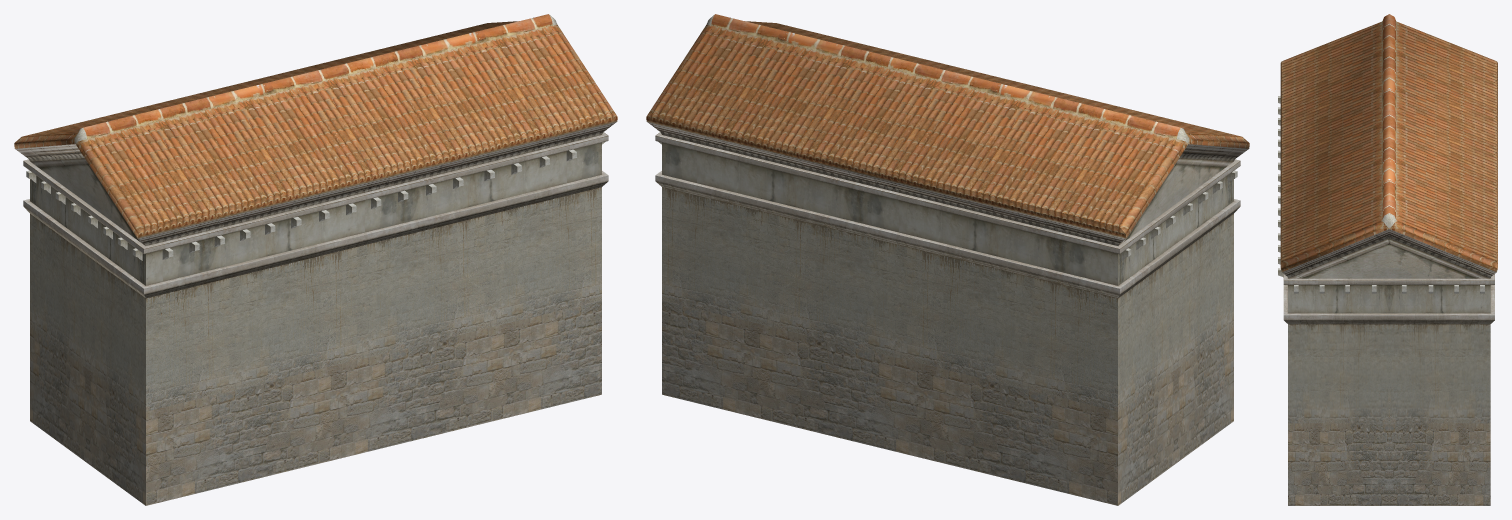
Rendered from bg_atm_aborder_abbeymain01_sm_jjy.FBX.
The picture shows the model from 3 angles, left to right: view 1: azimuth 30°, elevation 25°; view 2: azimuth 150°, elevation 25°; view 3: azimuth 270°, elevation 25°; orthographic projection. The views are drawn at different scales.
Visible parts, largest first — view 1: bg_atm_aborder_abbeymain01_sm_jjy; view 2: bg_atm_aborder_abbeymain01_sm_jjy; view 3: bg_atm_aborder_abbeymain01_sm_jjy.
Part boxes in pixels (bbox=[...]): bg_atm_aborder_abbeymain01_sm_jjy: bbox=[14, 14, 617, 505]; bg_atm_aborder_abbeymain01_sm_jjy: bbox=[646, 14, 1249, 505]; bg_atm_aborder_abbeymain01_sm_jjy: bbox=[1278, 14, 1497, 505].
Bounding box in the file's own units: 1097 × 735 × 497.
